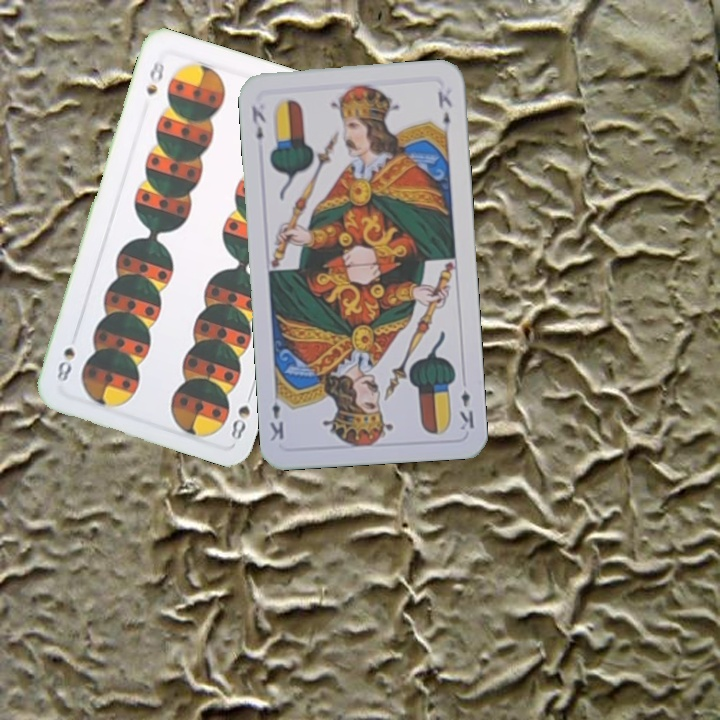EK: (455, 386, 477, 433), (247, 102, 268, 143)
S8: (227, 385, 256, 443), (142, 55, 167, 98)
